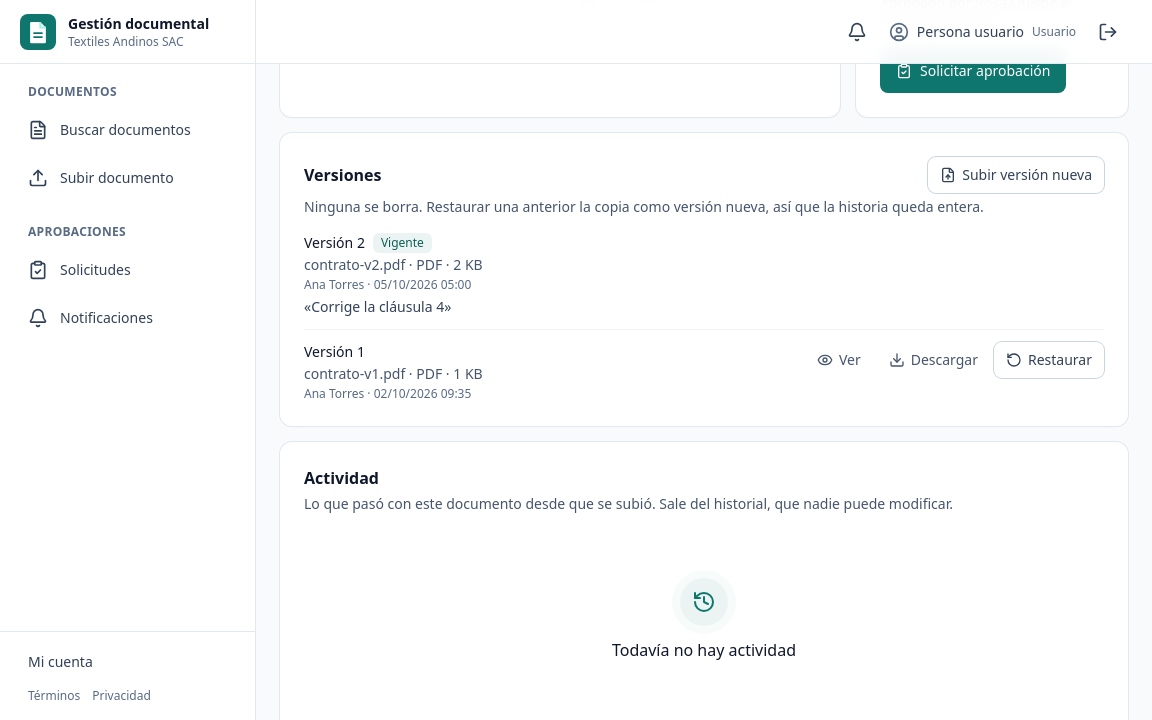
Documentos › versiones (RF34) › restaurar pide la versión elegida; con una aprobación pendiente no se puede, y una aprobada en otra versión no cubre la vigente
The width and height of the screenshot is (1152, 720).
(page scrolled)
Click the button with aria-label "Restaurar la versión 1" at (1049, 360), box [994,342,1104,378]
(page scrolled)
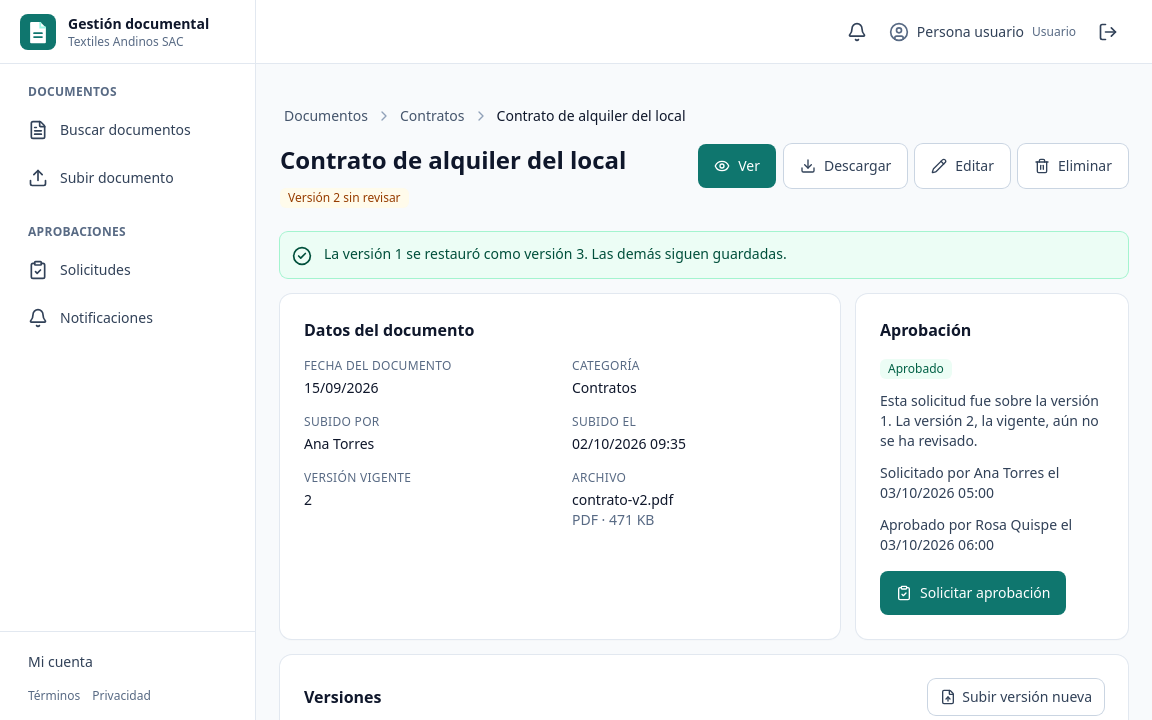
Expected: the text "La versión 1 se restauró como versión 3" is shown, [324,244,787,263]
